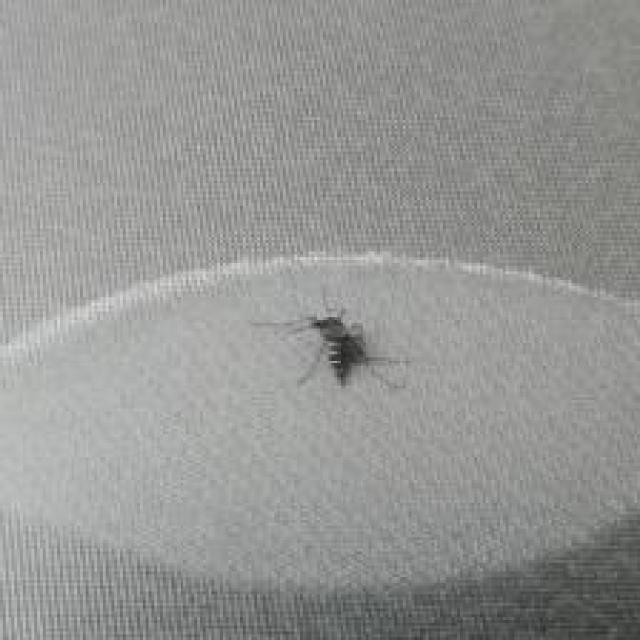Aedes albopictus: (250, 296, 410, 393)
